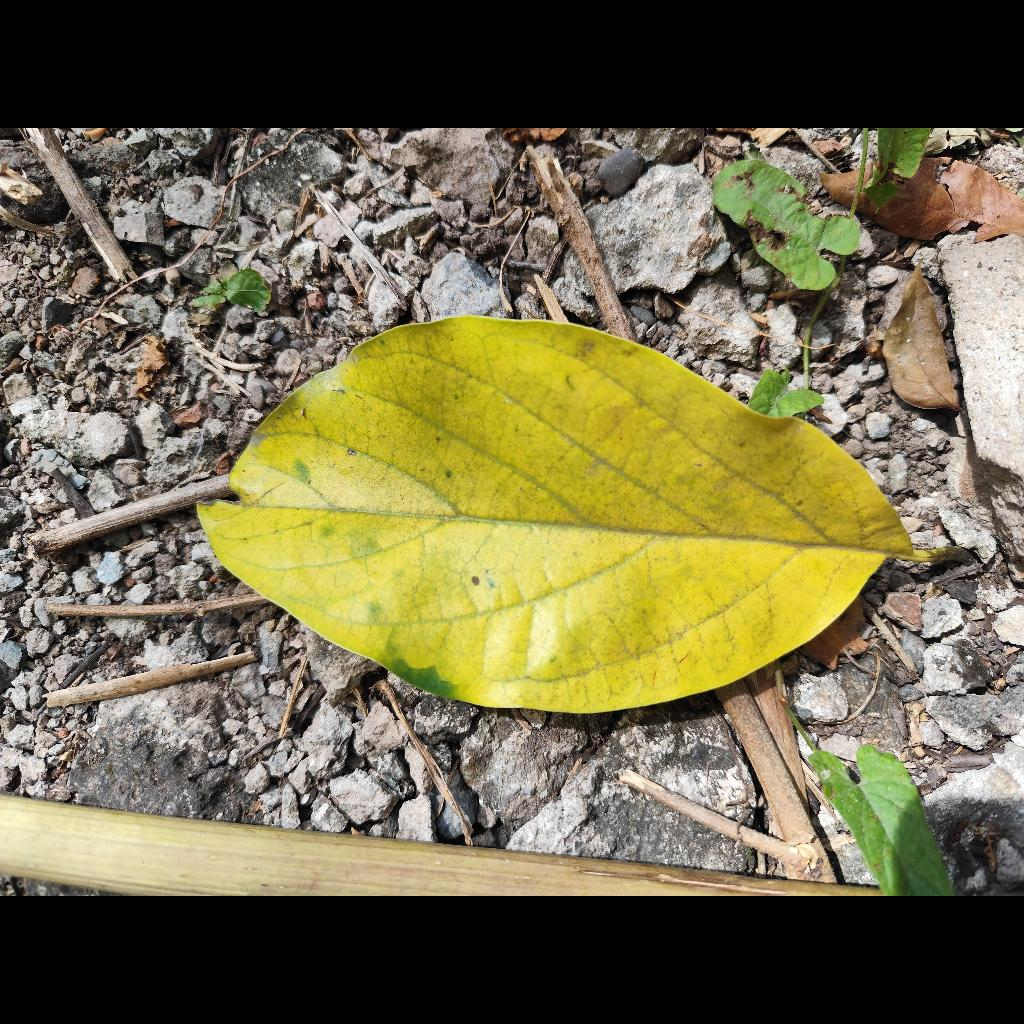deficiencia_nutricional: (200, 317, 916, 712)
